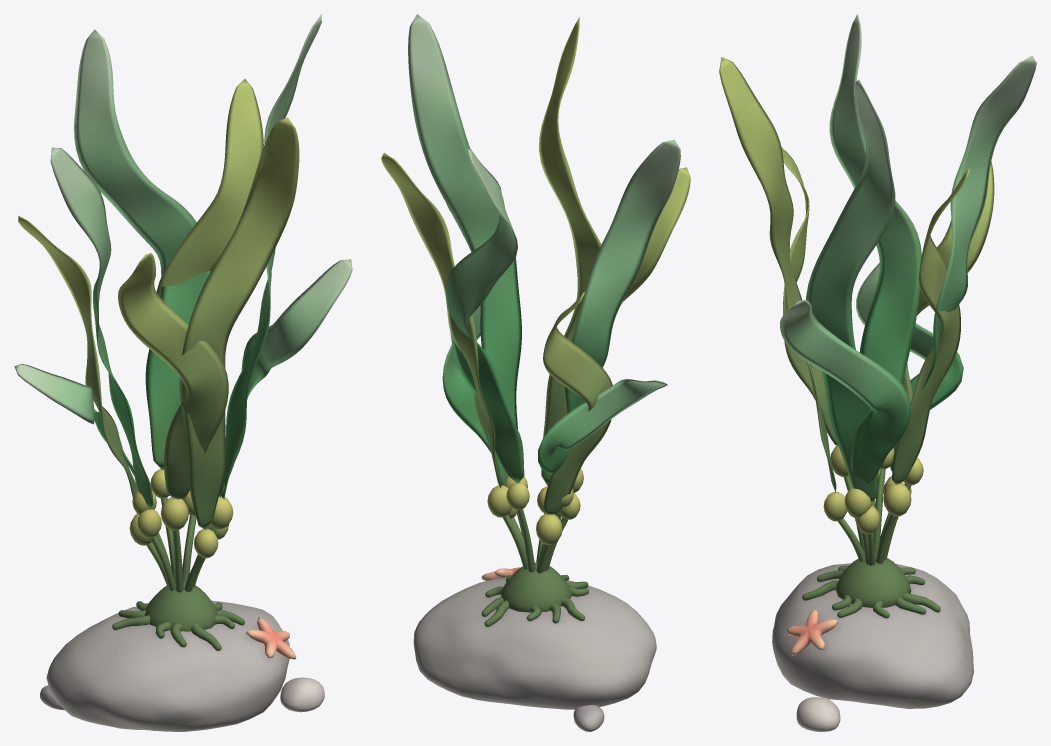
File: seaweed.obj
The picture shows the model from 3 angles, left to right: view 1: azimuth 30°, elevation 25°; view 2: azimuth 150°, elevation 25°; view 3: azimuth 270°, elevation 25°; orthographic projection. The views are drawn at different scales.
Parts seen in each view (by area): view 1: seaweed_body; view 2: seaweed_body; view 3: seaweed_body.
Boxes of the visible parts, <box> form: seaweed_body: <box>14,14,352,731</box>; seaweed_body: <box>381,14,690,731</box>; seaweed_body: <box>719,14,1036,731</box>.
Size of the model in its own units: 0.5407 by 1.2 by 0.5175.
1 material, 1 textured.
